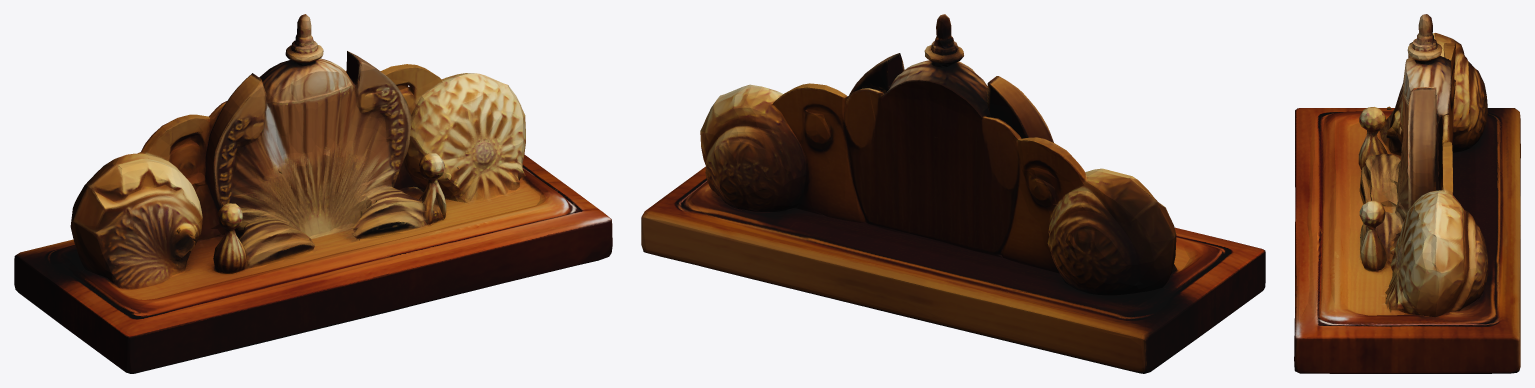
The model's file is wooden-mini-carving-set-art-deco.jpeg.glb.
3 renders of one model, left to right at view 1: azimuth 30°, elevation 25°; view 2: azimuth 150°, elevation 25°; view 3: azimuth 270°, elevation 25°, orthographic. The views are drawn at different scales.
Visible parts, largest first — view 1: world; view 2: world; view 3: world.
Part boxes in pixels (<box>): world: <box>14,14,612,373</box>; world: <box>641,14,1265,373</box>; world: <box>1294,14,1520,373</box>.
Bounding box in the file's own units: 1 × 0.4975 × 0.4162.
Materials: 1 (1 with a texture image).
